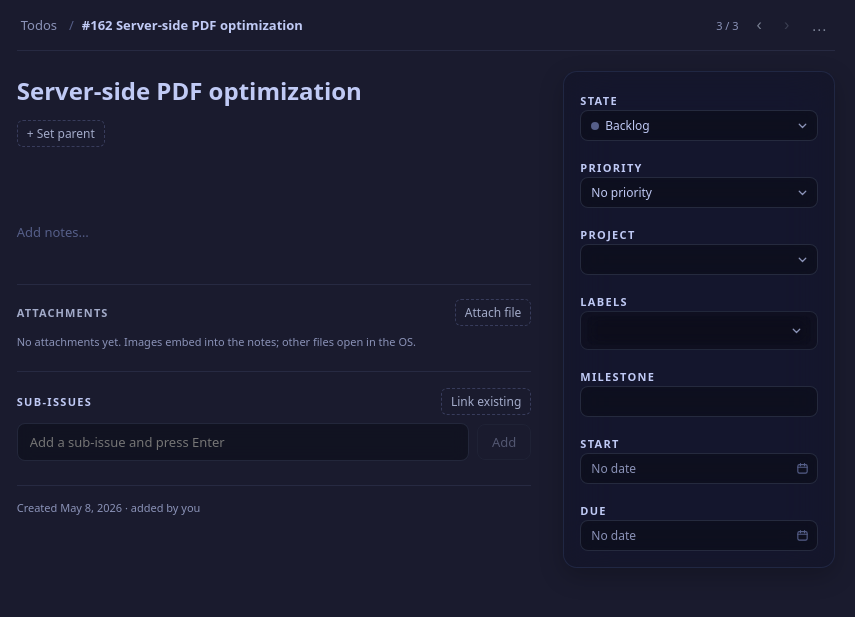
Test: TodoDetailPage surfaces write failures (BLOCKER 2) › shows a message when delete fails, without an unhandled rejection
Expected: the text box named "Title" is shown, [17,71,531,110]
Click the button named "More actions".
click(819, 26)  # box [803,16,835,36]
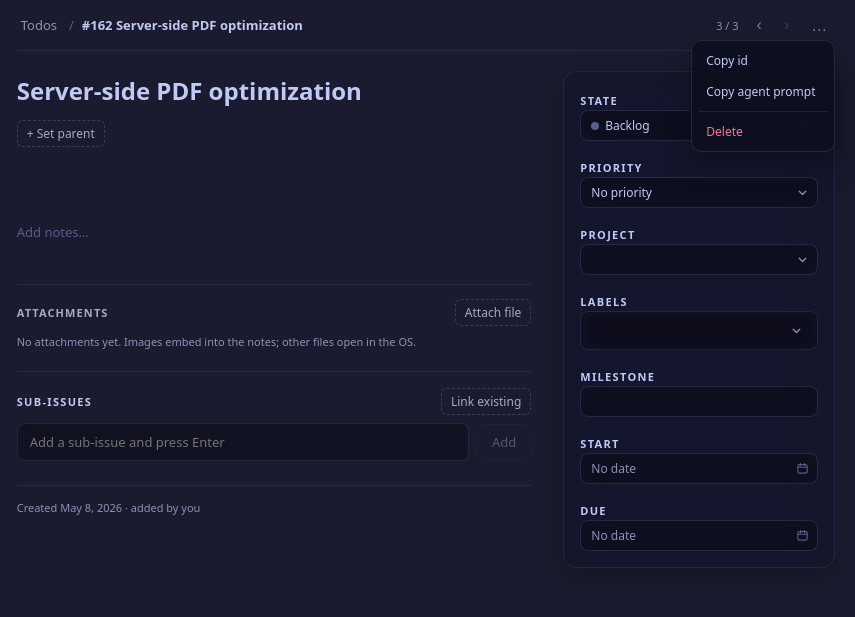
Click the menu item "Delete".
click(763, 132)  # box [696,116,830,147]
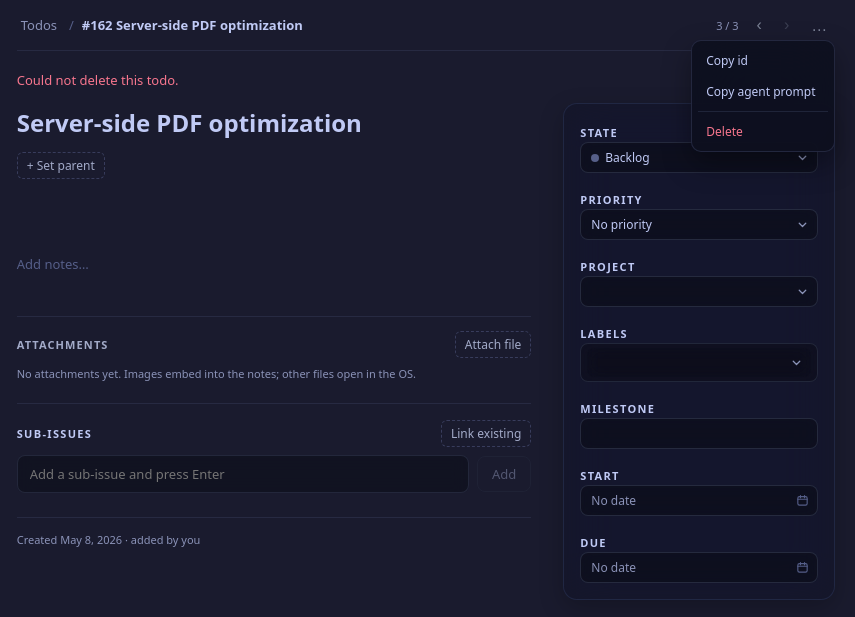
Result: the text "Could not delete this todo." is shown at [17,71,178,89]
